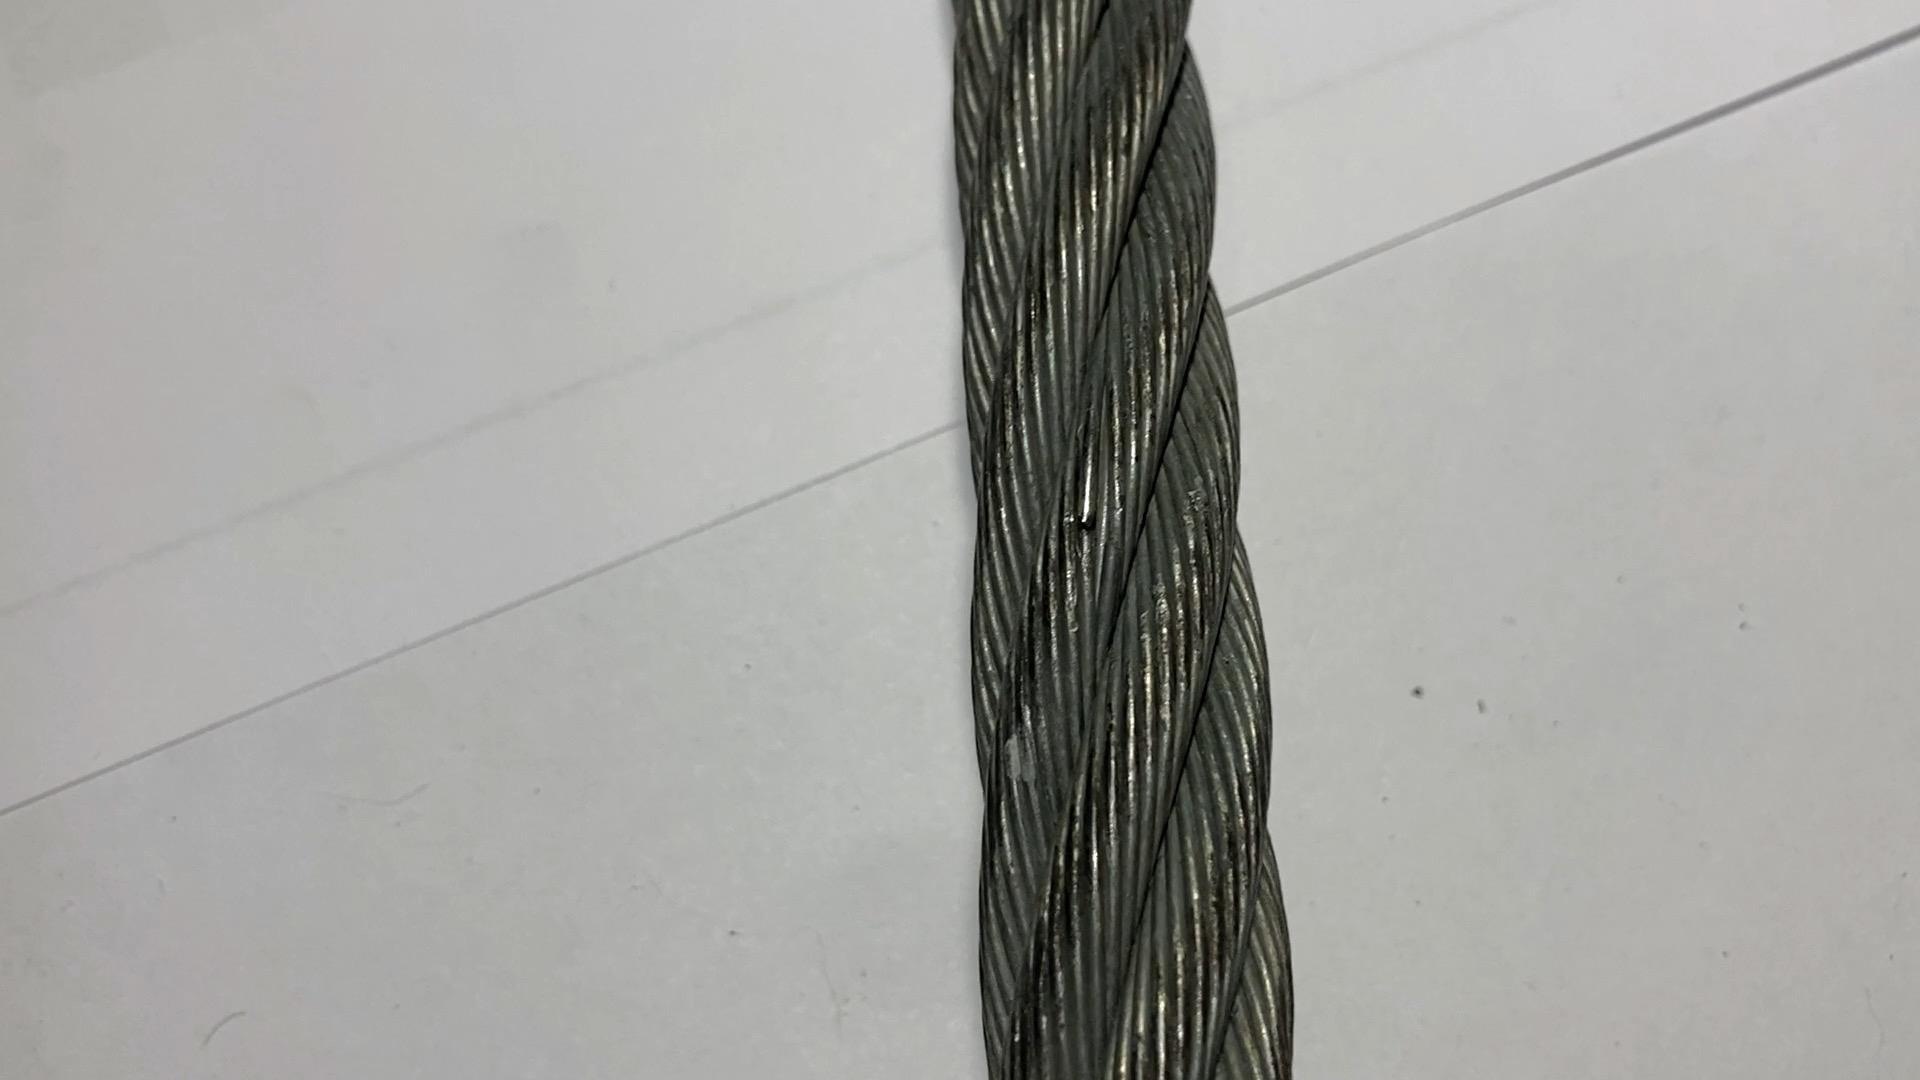break: (1051, 487, 1121, 556)
